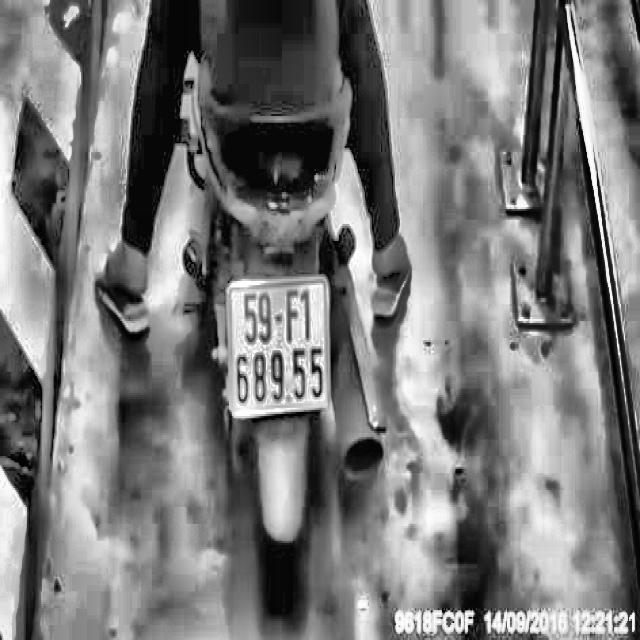plate: (224, 272, 337, 424)
